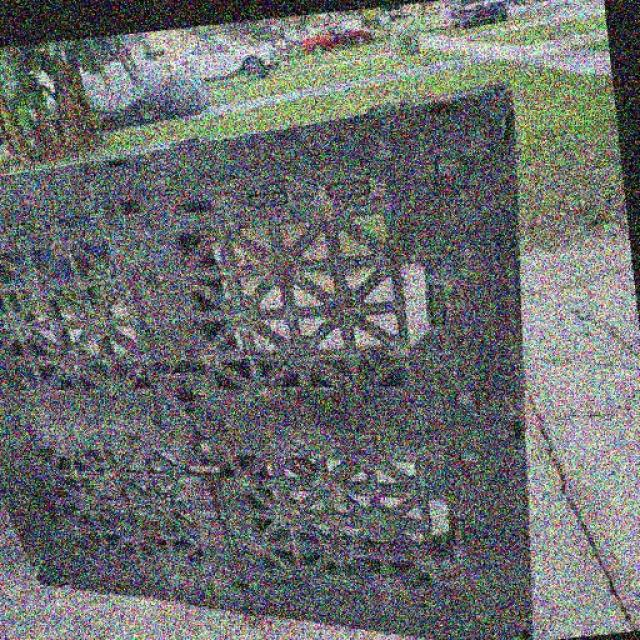igps: (0, 79, 559, 639)
